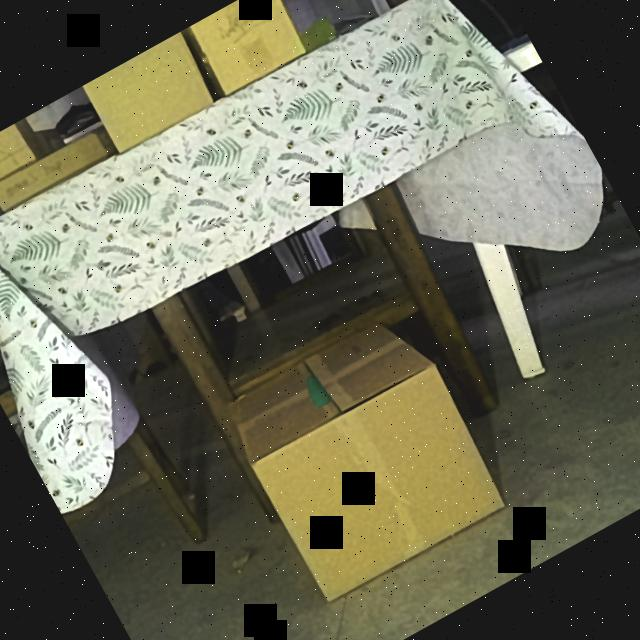box: (251, 362, 508, 603), (82, 33, 216, 155), (188, 0, 309, 97), (0, 130, 110, 212), (0, 122, 36, 202)
